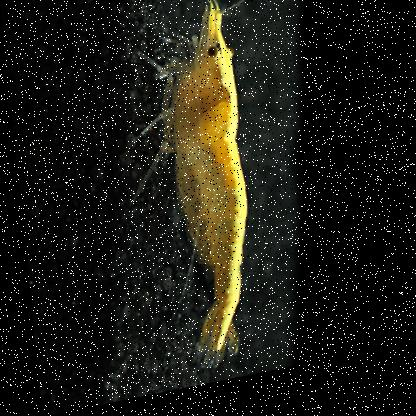shrimp: (119, 7, 260, 375)
